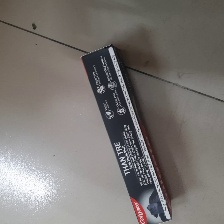Colgate Than: (80, 44, 173, 224)
